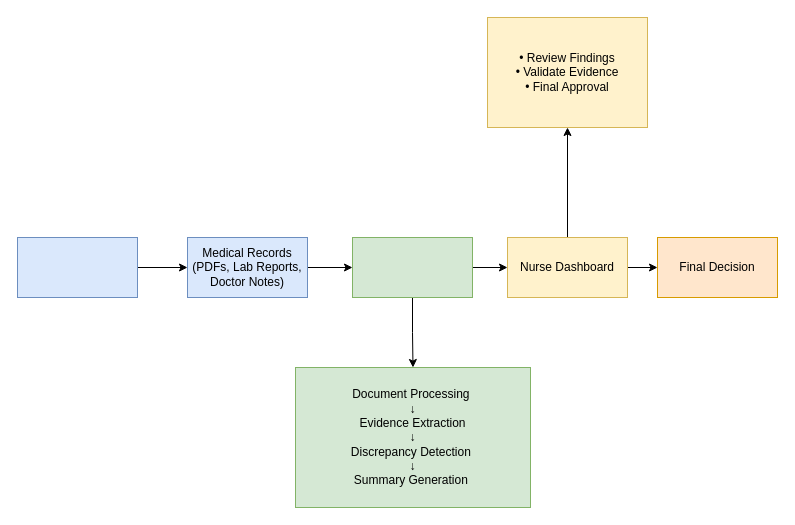
Some shapes in this 795 by 525 pixel diagram are drawn without their labels. Here are the shapes that lost their labels. From the top down, the centre of each, then its label:
At point 77,267: "Insurance Claim Review".
At point 412,267: "Medical AI Reviewer Platform".
